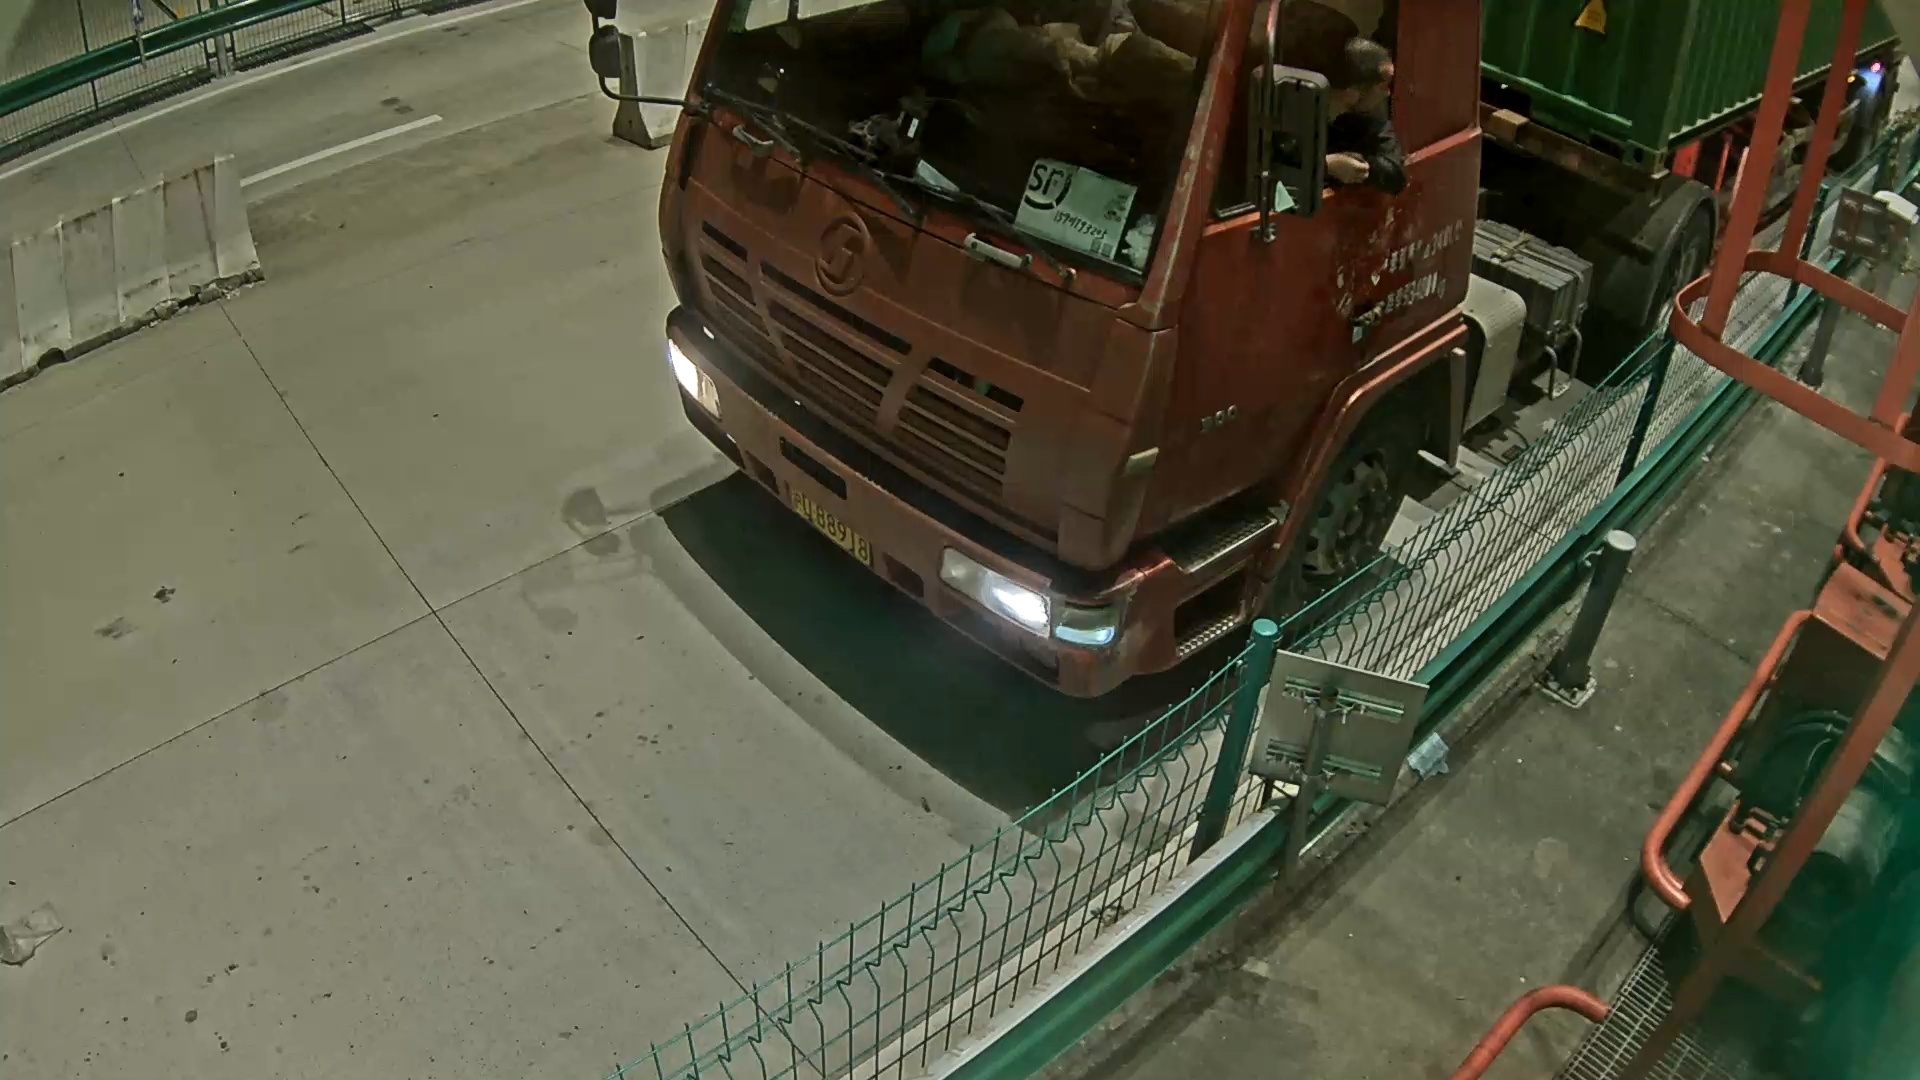head: (655, 1, 1481, 692)
plate: (786, 482, 872, 566)
